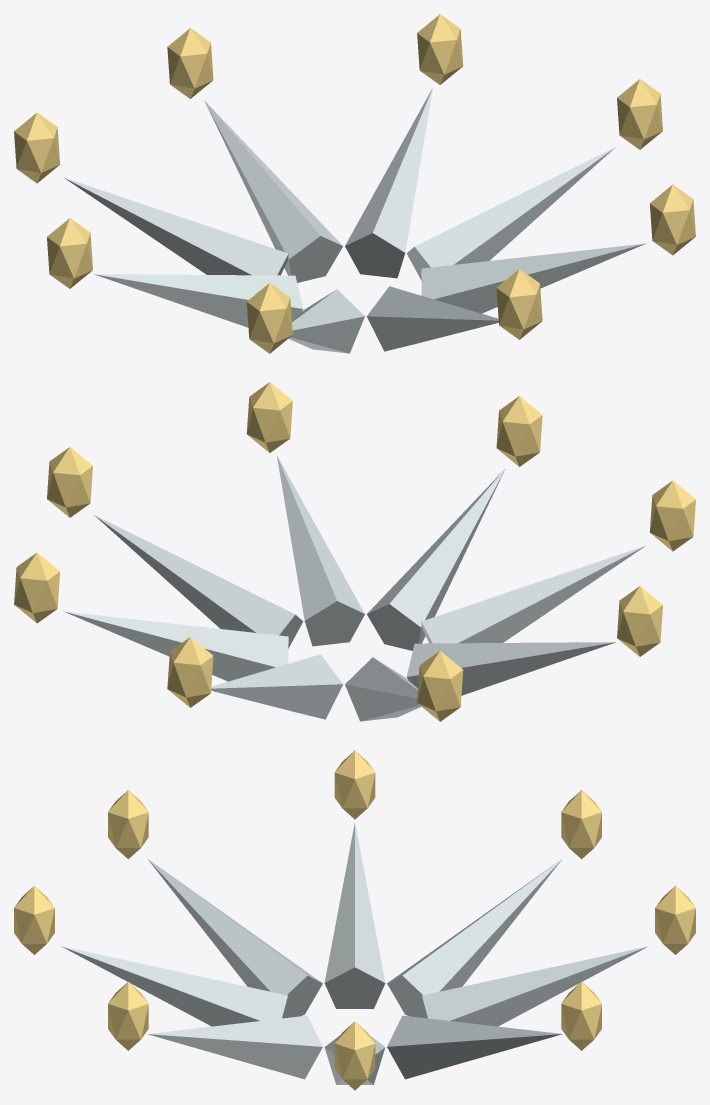
The model's file is Critical.fbx.
3 renders of one model, top to bottom at view 1: azimuth 30°, elevation 25°; view 2: azimuth 150°, elevation 25°; view 3: azimuth 270°, elevation 25°, orthographic. The views are drawn at different scales.
Parts seen in each view (by area): view 1: Critical; view 2: Critical; view 3: Critical.
Part boxes in pixels (<box>): Critical: <box>14,14,695,353</box>; Critical: <box>14,382,695,721</box>; Critical: <box>14,750,695,1090</box>.
Size of the model in its own units: 77.19 by 19.98 by 76.59.
